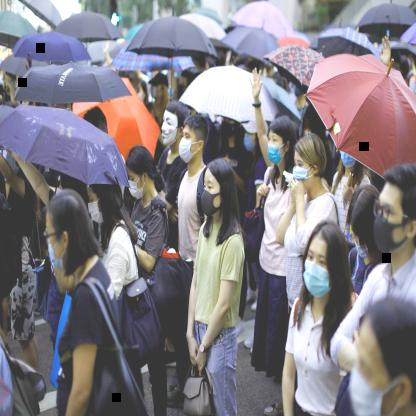mask: (370, 163, 416, 258), (44, 189, 88, 273), (302, 226, 348, 299), (350, 184, 381, 260), (198, 160, 237, 218), (292, 133, 327, 188), (87, 174, 119, 226), (178, 114, 211, 163), (266, 116, 295, 168), (126, 146, 154, 199)
